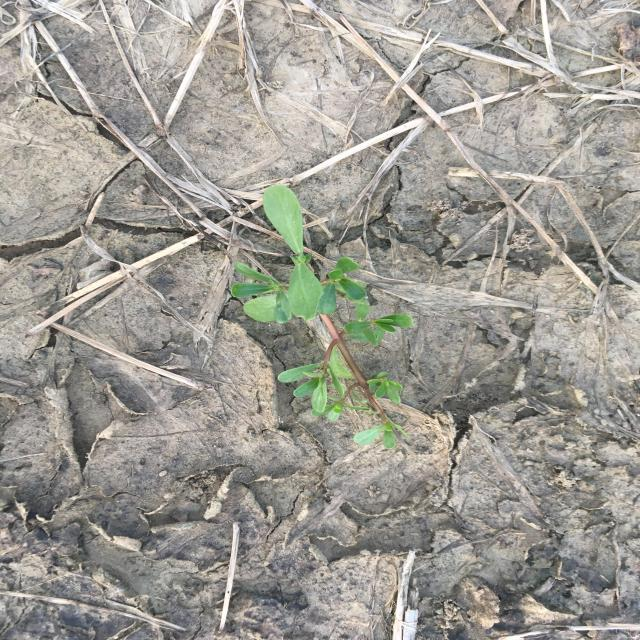Purslane: (228, 183, 417, 455)
